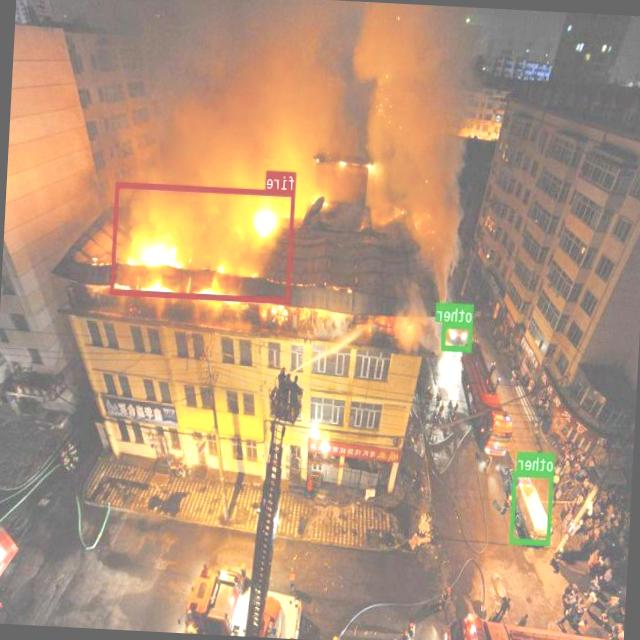fire: (110, 182, 296, 304)
